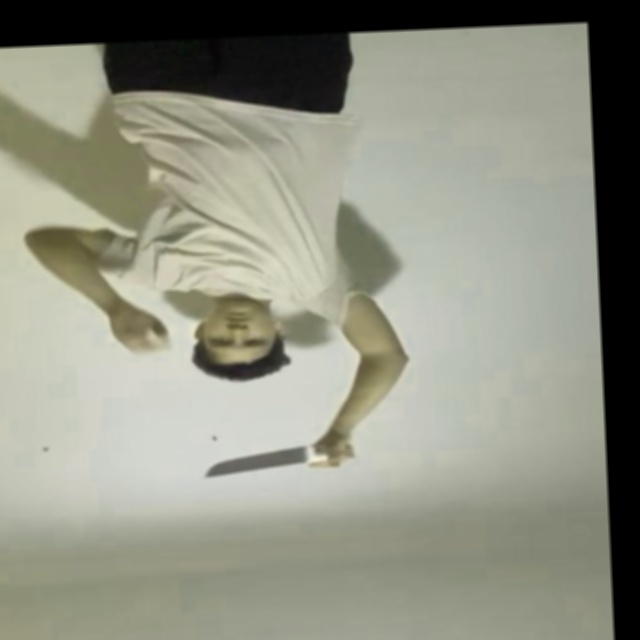Sharp-Object: (202, 446, 314, 481)
